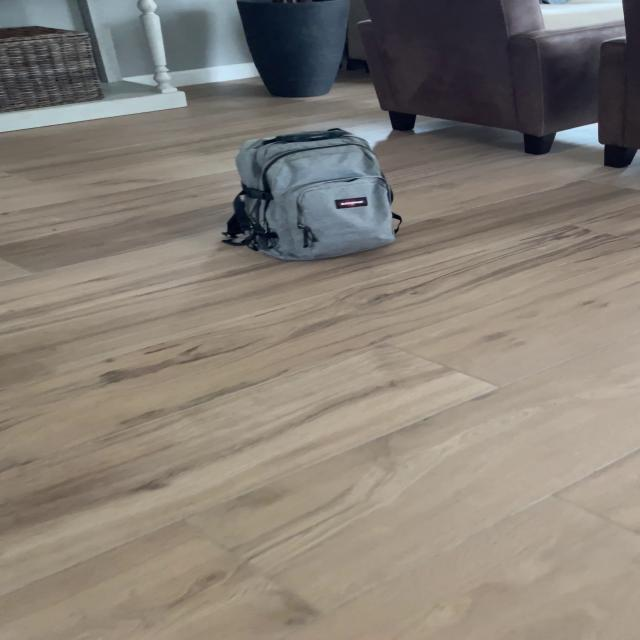backpack: (213, 122, 407, 266)
